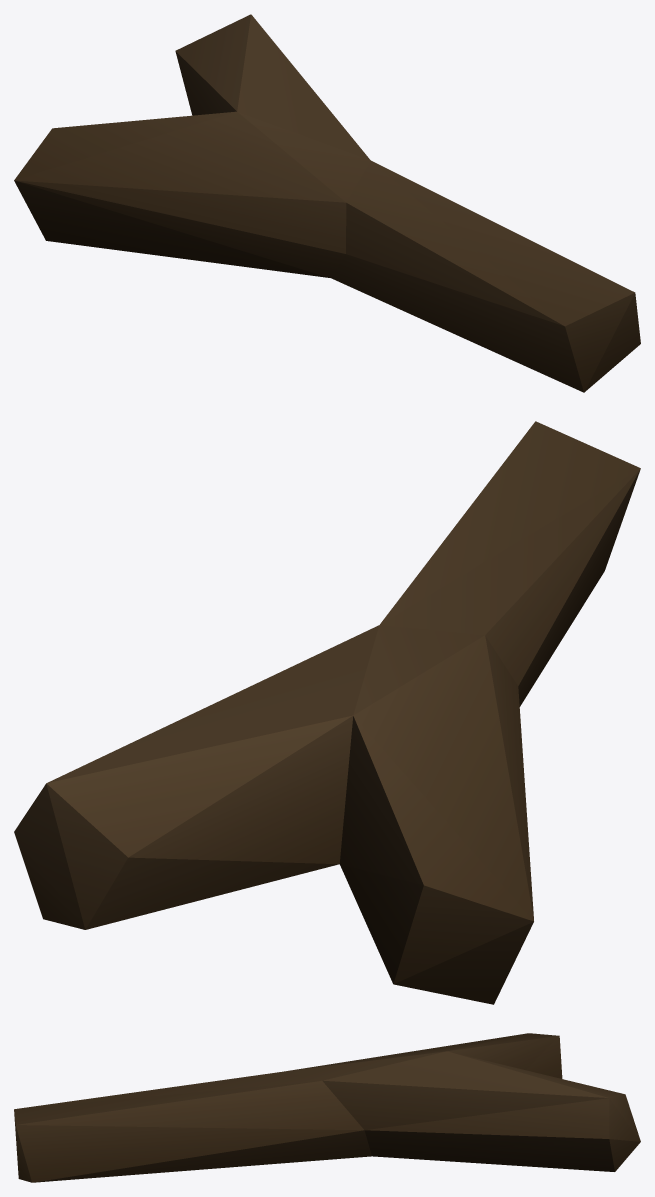
File: props 0 - 09.fbx
The picture shows the model from 3 angles, top to bottom: view 1: azimuth 30°, elevation 25°; view 2: azimuth 150°, elevation 25°; view 3: azimuth 270°, elevation 25°; orthographic projection. The views are drawn at different scales.
Visible parts, largest first — view 1: 009; view 2: 009; view 3: 009.
Boxes of the visible parts, <box> form: 009: <box>14,14,640,392</box>; 009: <box>14,421,640,1004</box>; 009: <box>14,1033,640,1182</box>.
Bounding box in the file's own units: 98.94 × 37.38 × 200.
